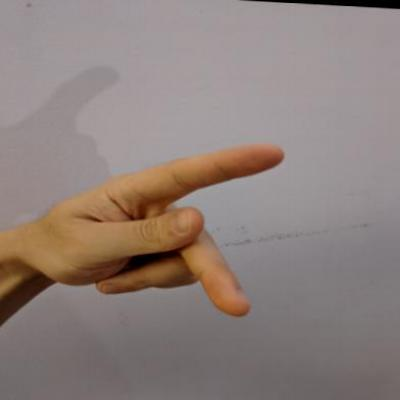hand: (16, 127, 289, 320)
